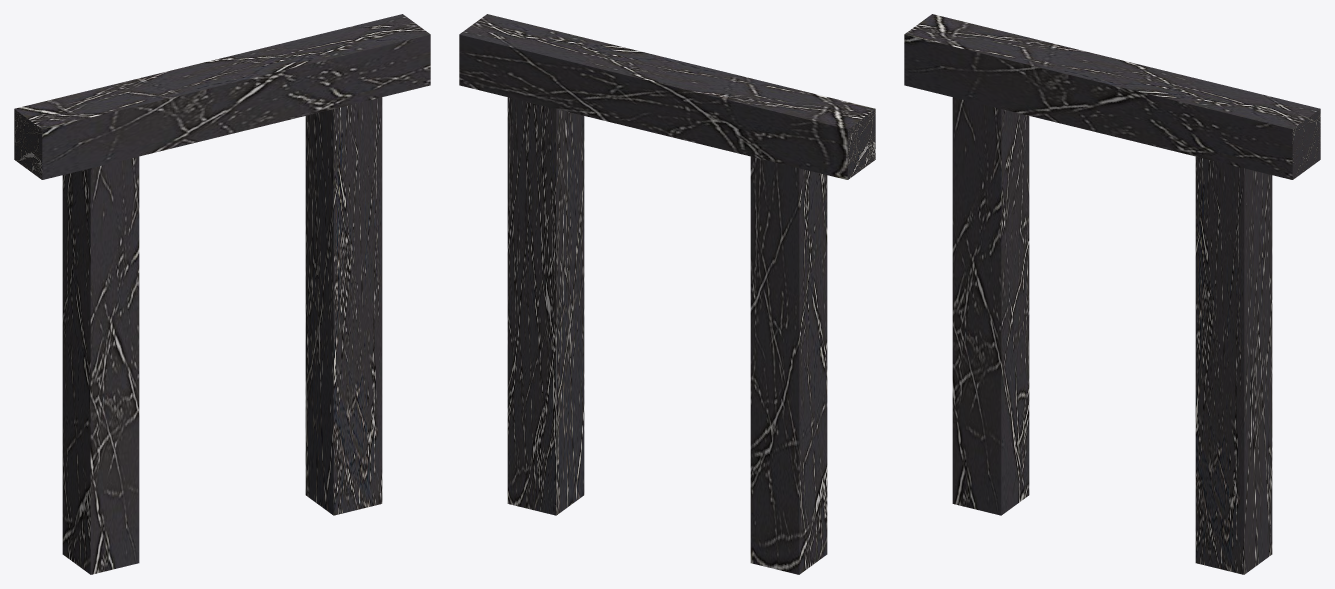
The model's file is Portale.gltf.
3 renders of one model, left to right at view 1: azimuth 30°, elevation 25°; view 2: azimuth 150°, elevation 25°; view 3: azimuth 330°, elevation 25°, orthographic.
Parts seen in each view (by area): view 1: architrave; view 2: architrave; view 3: architrave.
Part boxes in pixels (x1,y1,x2,y2): architrave: (14,14,430,574); architrave: (459,14,875,574); architrave: (904,14,1320,574).
Size of the model in its own units: 16 by 18 by 2.
3 materials, 3 textured.
